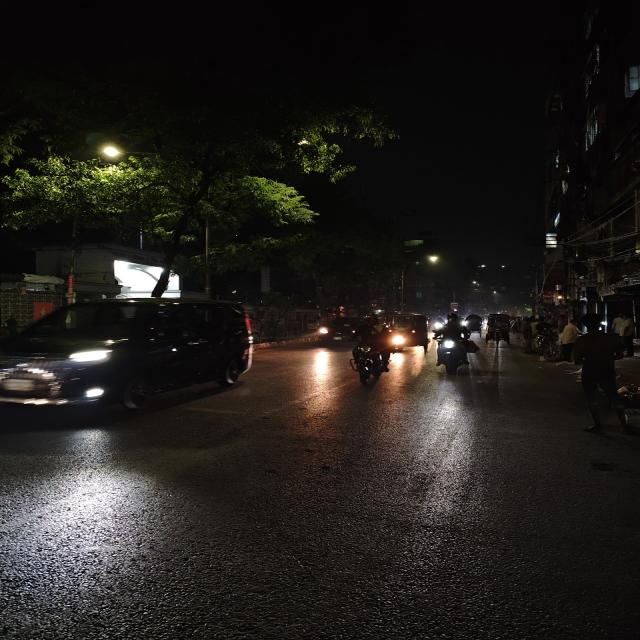car: (0, 292, 265, 425), (313, 307, 367, 347)
cng: (386, 310, 437, 355)
motorcycle: (344, 310, 408, 390), (432, 311, 478, 375)
pedestrian: (578, 314, 627, 439), (555, 314, 583, 367)
rickshaw: (485, 312, 515, 348), (462, 312, 487, 340)
